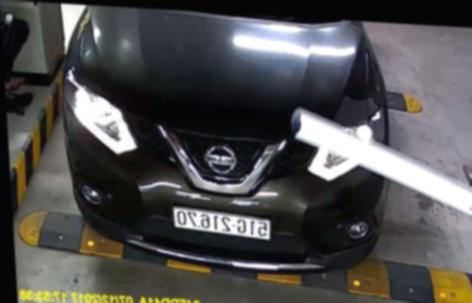License_Plate: (170, 203, 275, 239)
